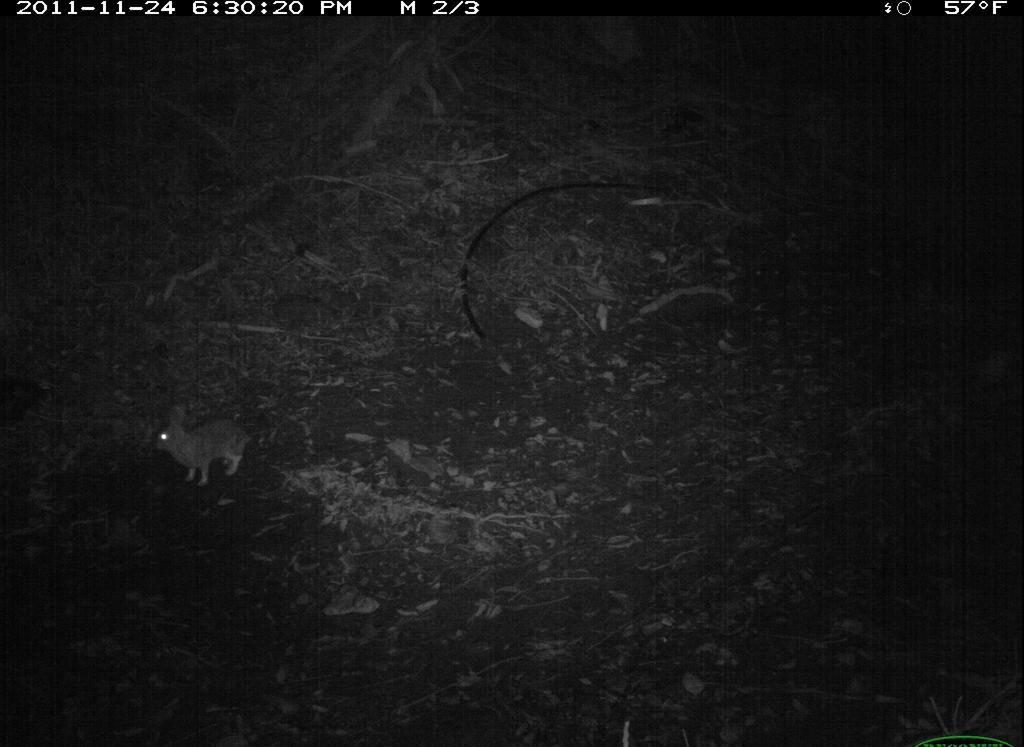rabbit: (141, 381, 267, 484)
